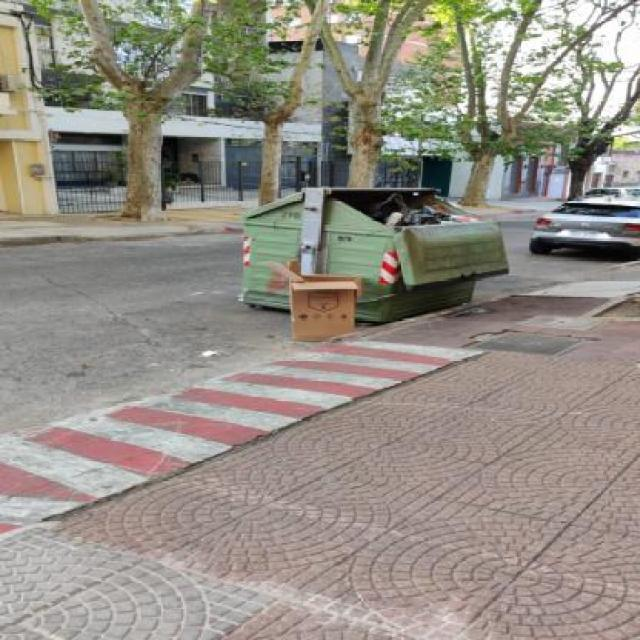garbage: (262, 255, 403, 366)
